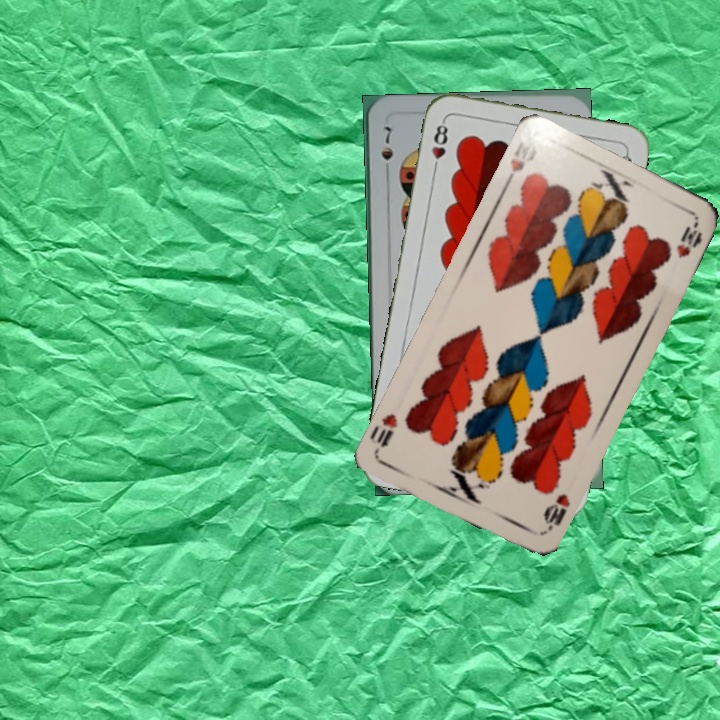H10: (500, 139, 539, 191), (539, 489, 573, 535)
H8: (427, 116, 451, 175)
S7: (377, 122, 396, 178)
